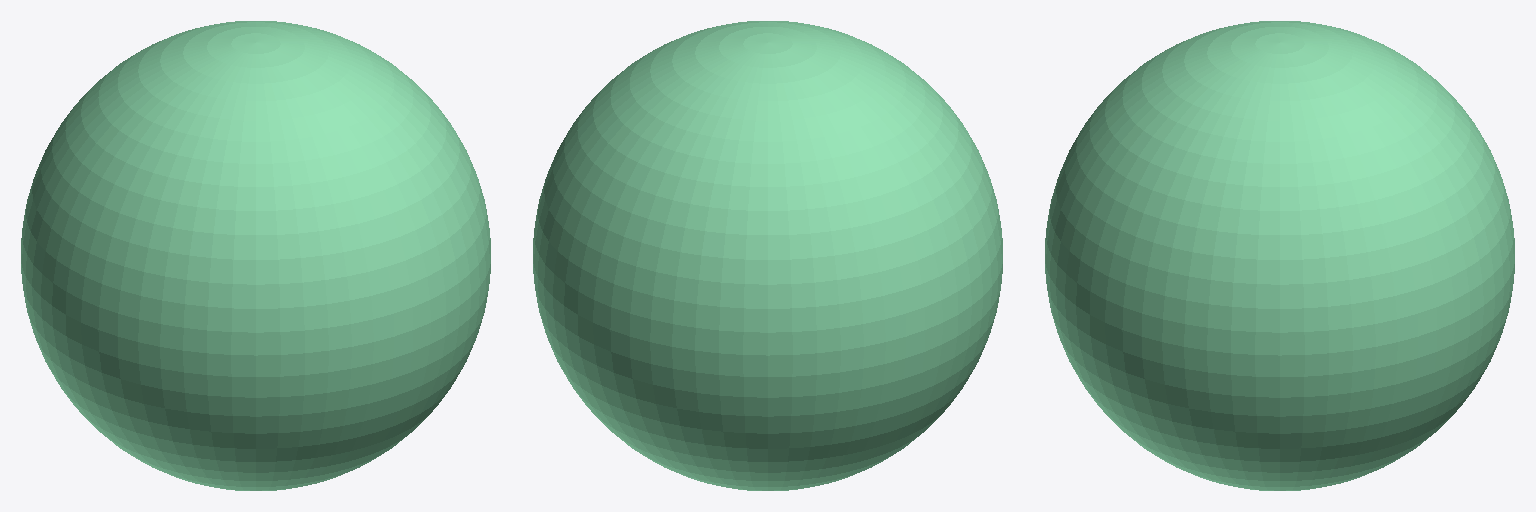
The model's file is Planet.obj.
3 views of the same model, side by side, from view 1: azimuth 30°, elevation 25°; view 2: azimuth 150°, elevation 25°; view 3: azimuth 270°, elevation 25° (orthographic).
Visible parts, largest first — view 1: Sphere001; view 2: Sphere001; view 3: Sphere001.
Boxes of the visible parts, x1=… form: Sphere001: x1=21, y1=21, x2=490, y2=490; Sphere001: x1=533, y1=21, x2=1002, y2=490; Sphere001: x1=1045, y1=21, x2=1514, y2=490.
Size of the model in its own units: 160 by 160 by 160.